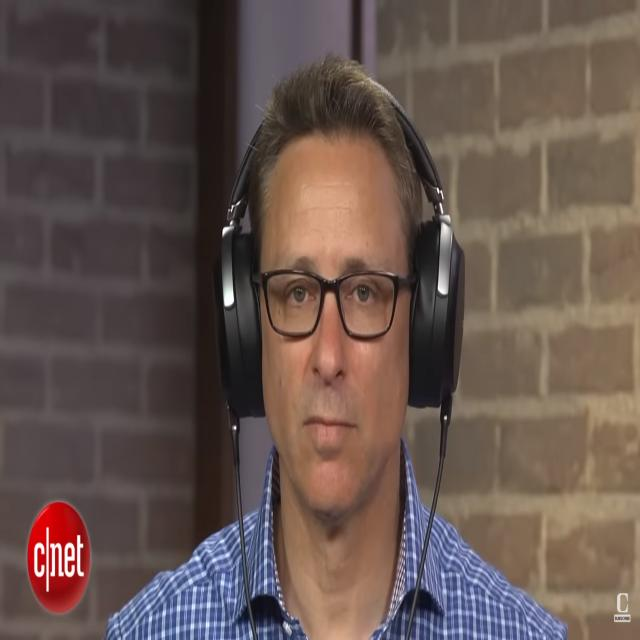Headphone: (211, 71, 467, 424)
